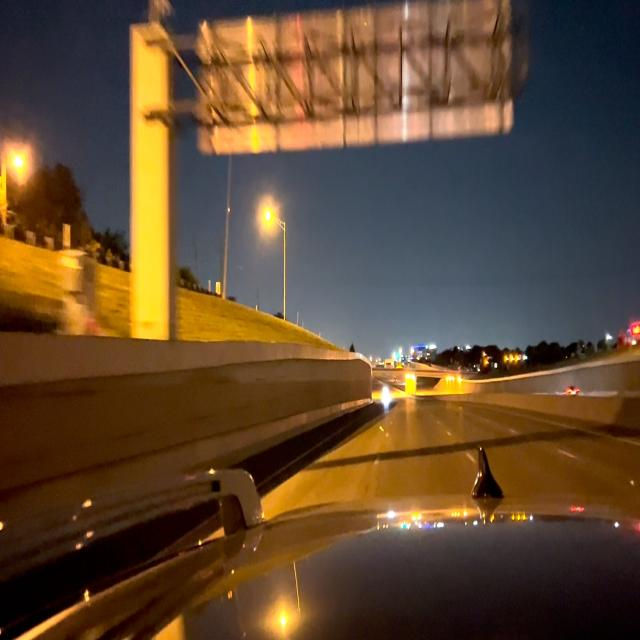back-of-sign: (203, 5, 510, 127)
